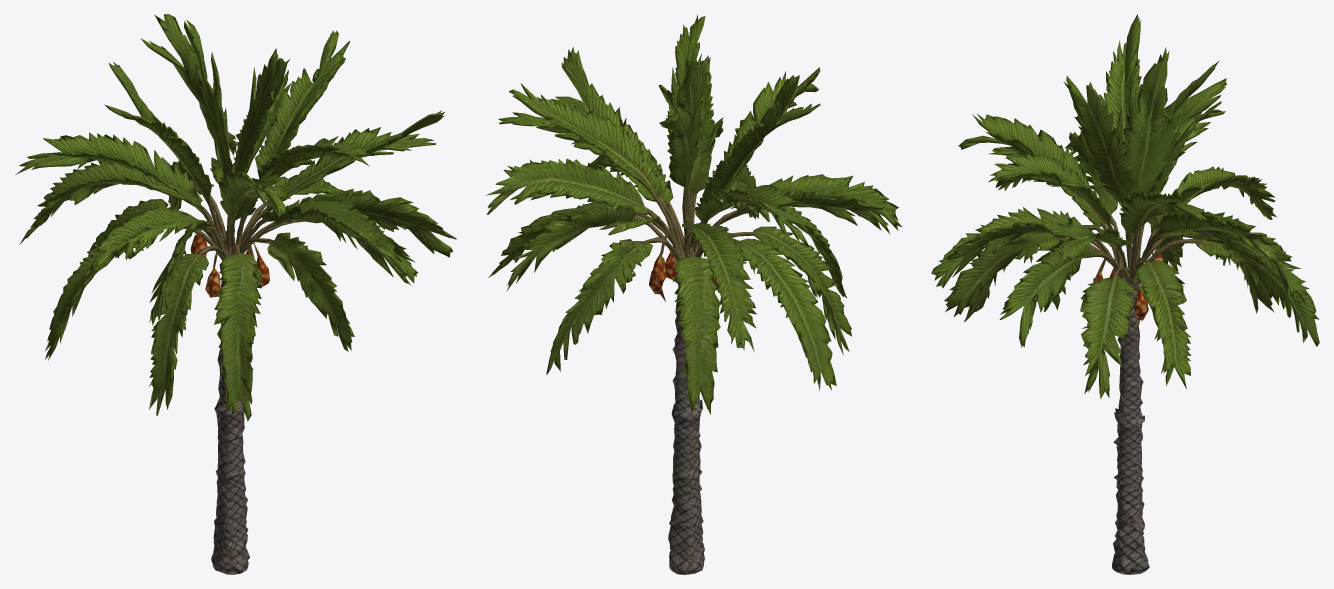
File: palm-2.glb
The picture shows the model from 3 angles, left to right: view 1: azimuth 30°, elevation 25°; view 2: azimuth 150°, elevation 25°; view 3: azimuth 270°, elevation 25°; orthographic projection. The views are drawn at different scales.
Visible parts, largest first — view 1: tripo_node_a44a1cb7-9c09-40c5-b518-78c239879322; view 2: tripo_node_a44a1cb7-9c09-40c5-b518-78c239879322; view 3: tripo_node_a44a1cb7-9c09-40c5-b518-78c239879322.
Part boxes in pixels (x1=…): tripo_node_a44a1cb7-9c09-40c5-b518-78c239879322: x1=15, y1=14, x2=456, y2=574; tripo_node_a44a1cb7-9c09-40c5-b518-78c239879322: x1=486, y1=14, x2=901, y2=574; tripo_node_a44a1cb7-9c09-40c5-b518-78c239879322: x1=931, y1=14, x2=1319, y2=574.
Bounding box in the file's own units: 0.6746 × 1 × 0.6927.
1 material, 1 textured.
